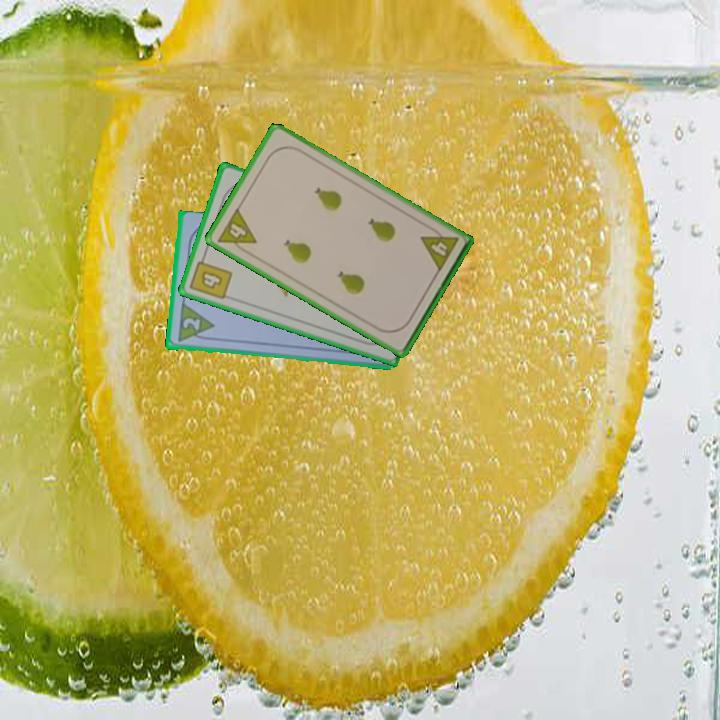2p: (179, 314, 203, 334)
4b: (186, 251, 235, 303)
4p: (213, 204, 259, 258), (417, 222, 461, 275)
